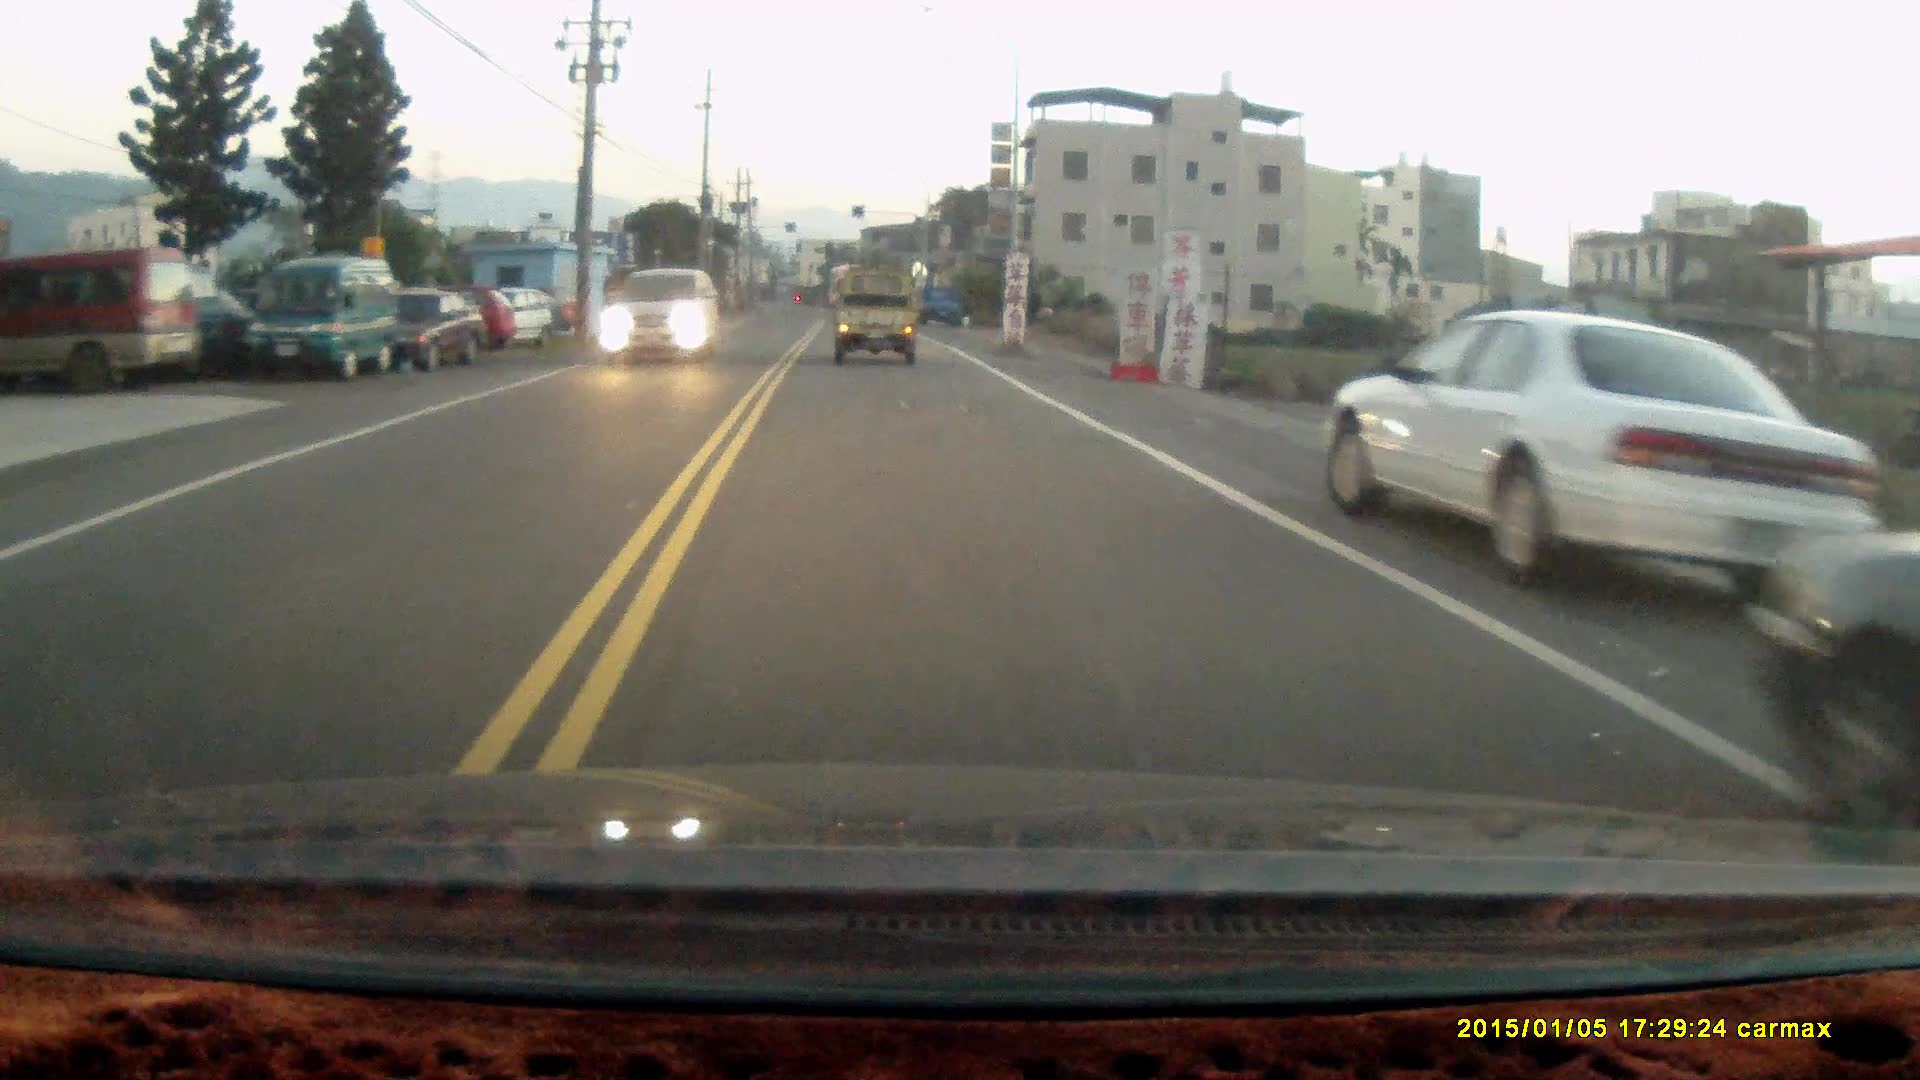vehicle: (1321, 309, 1886, 611), (1754, 514, 1919, 811), (1, 249, 203, 388), (247, 256, 400, 380), (596, 268, 721, 372), (832, 280, 922, 373), (401, 291, 489, 376), (480, 294, 549, 359)
